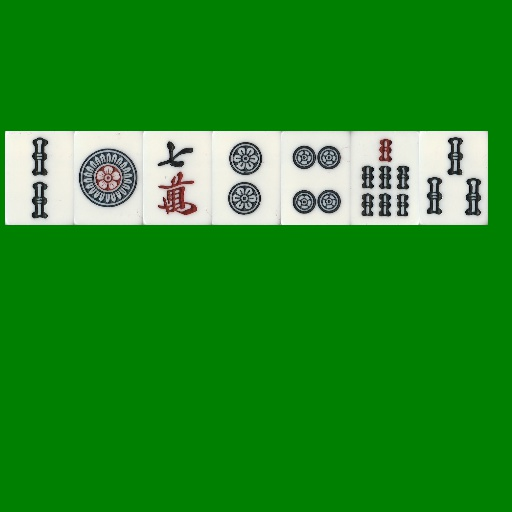1p: (74, 131, 143, 225)
2p: (212, 131, 281, 225)
2s: (5, 131, 74, 225)
3s: (419, 131, 488, 225)
4p: (281, 131, 350, 225)
7m: (143, 131, 212, 225)
7s: (350, 131, 419, 225)
